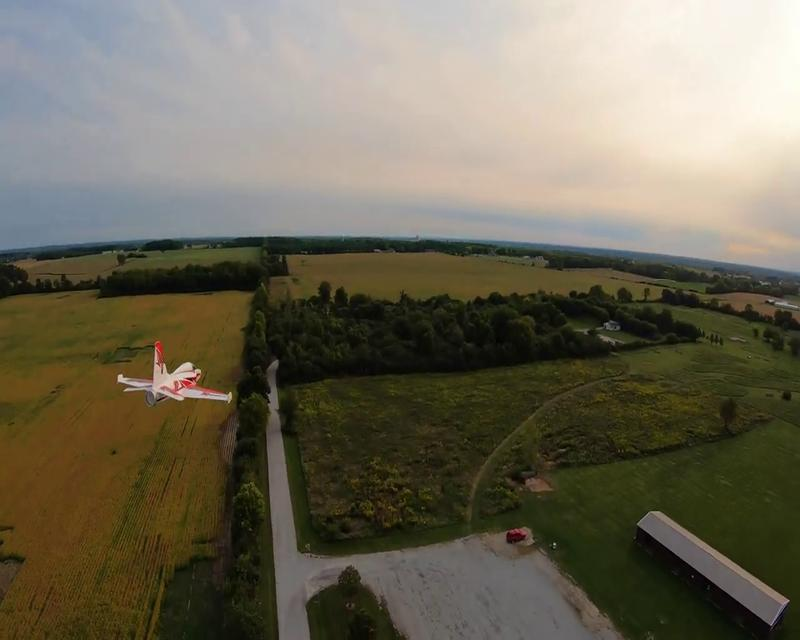UAV: (115, 339, 232, 407)
